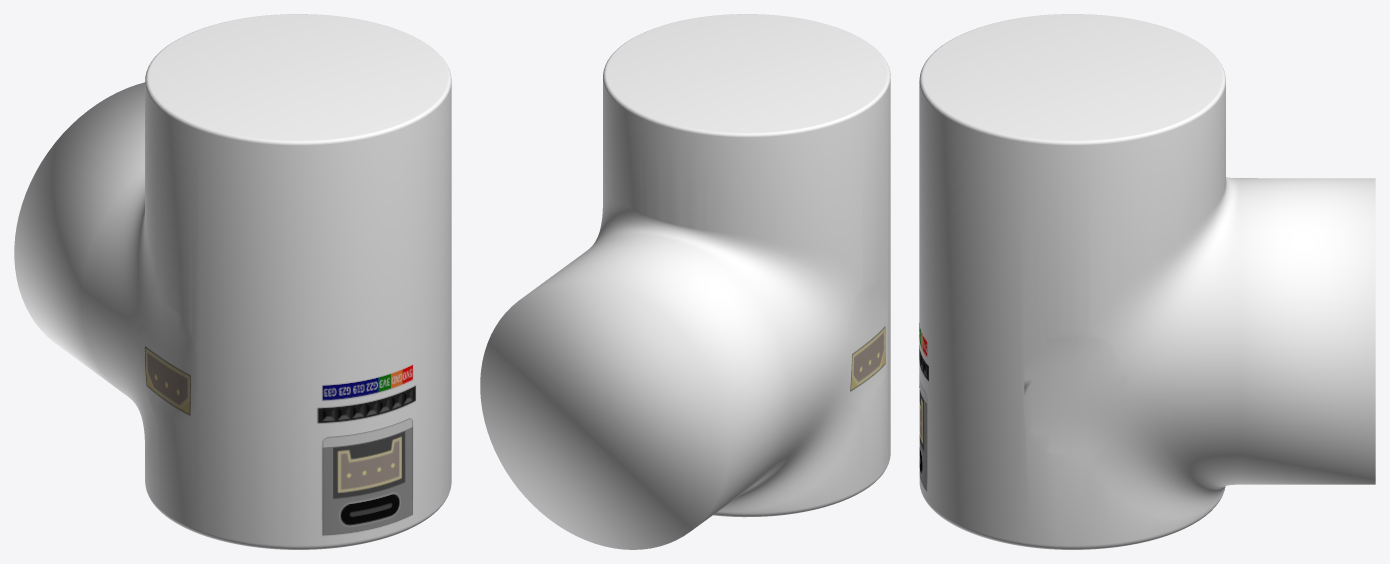
Rendered from joint6.obj.
3 views of the same model, side by side, from view 1: azimuth 30°, elevation 25°; view 2: azimuth 150°, elevation 25°; view 3: azimuth 270°, elevation 25° (orthographic). The views are drawn at different scales.
Size of the model in its own units: 0.0384 by 0.0567 by 0.0571.
Materials: 1 (1 with a texture image).
